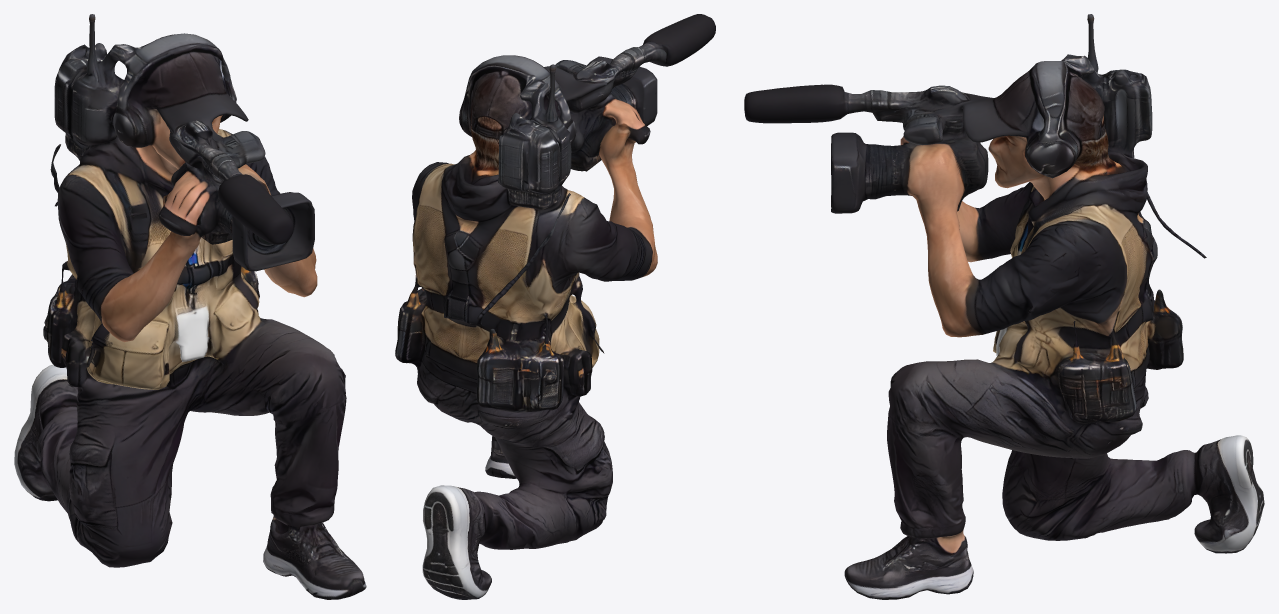
Rendered from cameraman.glb.
3 views of the same model, side by side, from view 1: azimuth 30°, elevation 25°; view 2: azimuth 150°, elevation 25°; view 3: azimuth 270°, elevation 25° (orthographic). The views are drawn at different scales.
Visible parts, largest first — view 1: model; view 2: model; view 3: model.
Boxes of the visible parts, x1,y1,x2,y2 form: model: (14, 14, 366, 599); model: (395, 14, 715, 599); model: (744, 14, 1264, 599).
Size of the model in its own units: 0.7884 by 1.89 by 1.72.
1 material, 1 textured.
